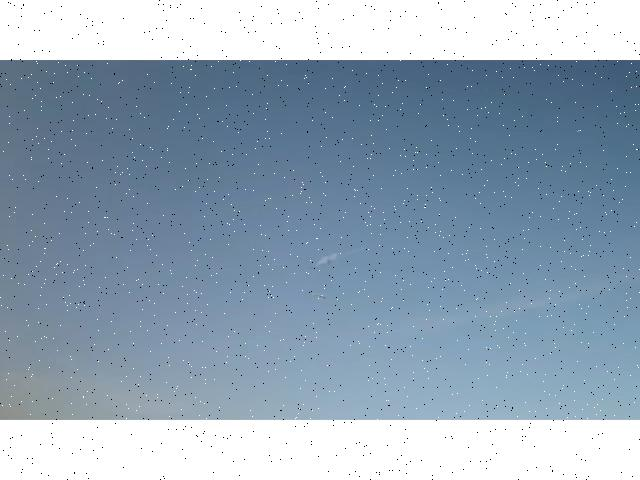Anti-Drone: (306, 289, 346, 307)
